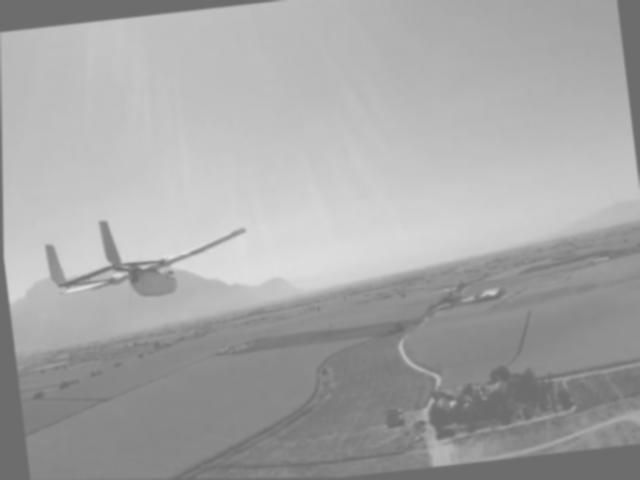hedef: (23, 168, 267, 347)
